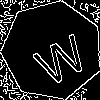W: (27, 25, 91, 88)
